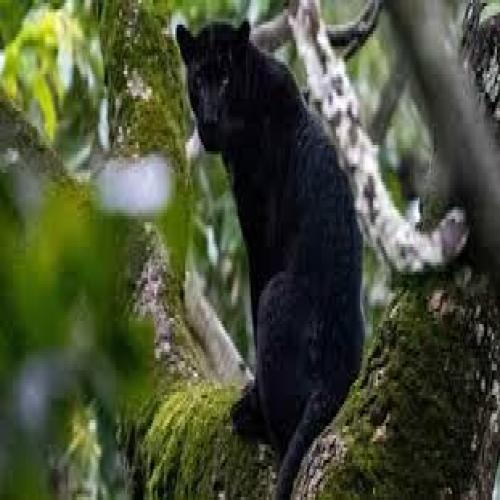panther-endangered: (175, 19, 365, 486)
